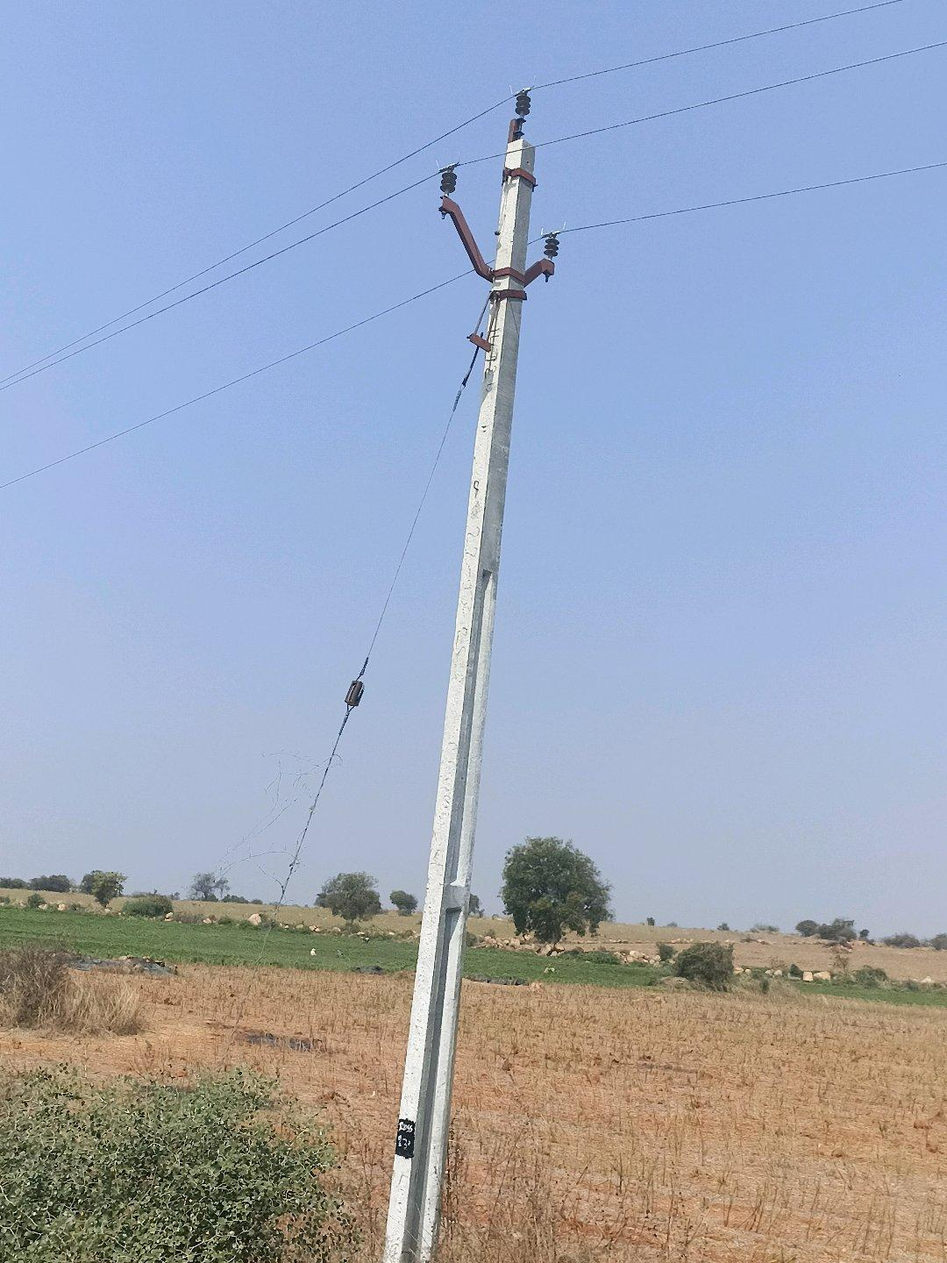{"0" "insulator", "1" "pole", "2" "crossarm", "3" "conductor", "4" "street_: (383, 91, 557, 1262)
